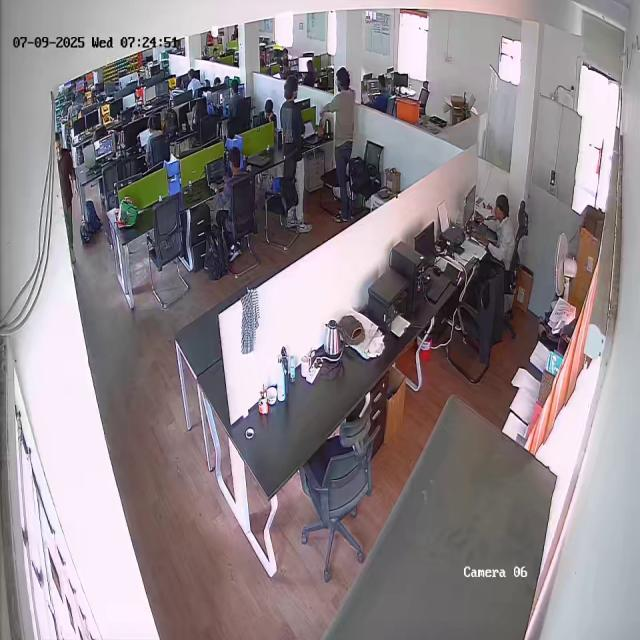person: (278, 75, 313, 233), (328, 67, 355, 220), (491, 193, 515, 260)
